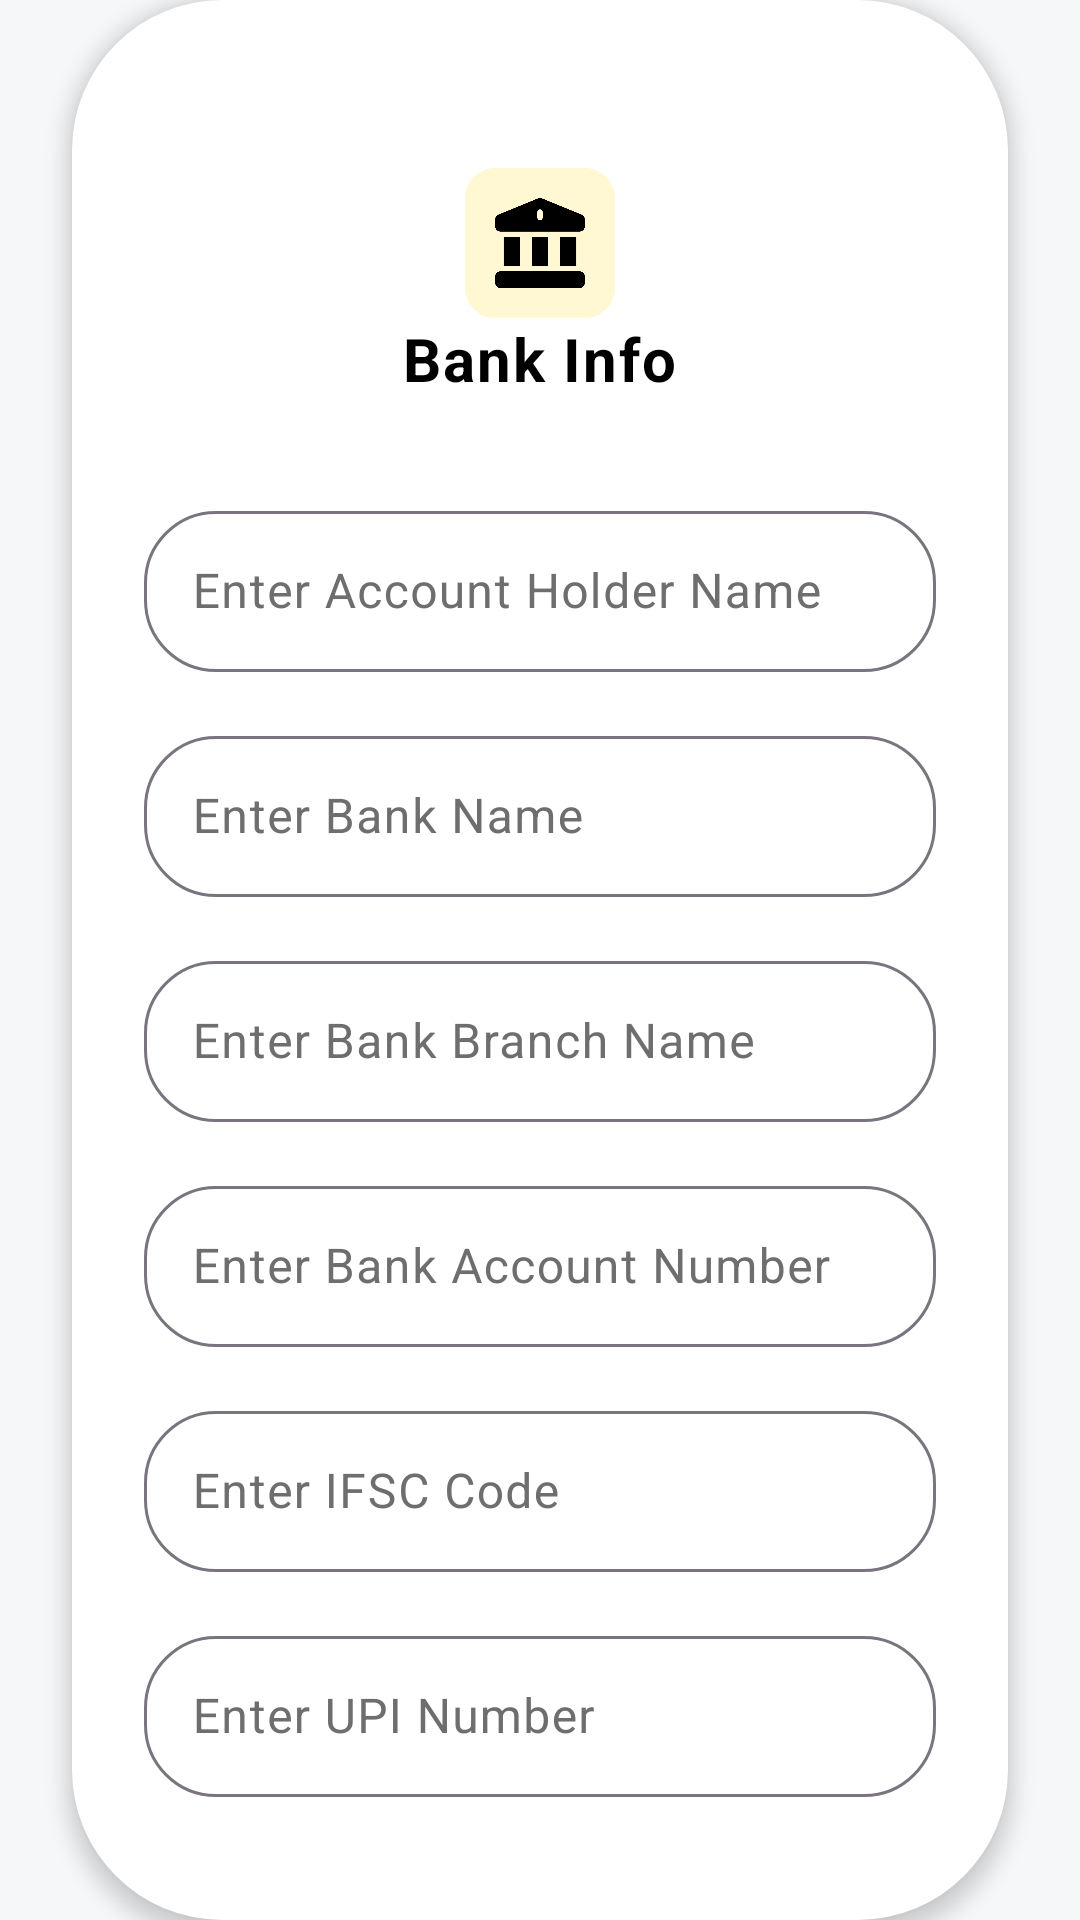

Point at icon controls on the screen. Image size 1080px x 1920px, points as point (x, y).
customer registeration bank: point (540, 243)
